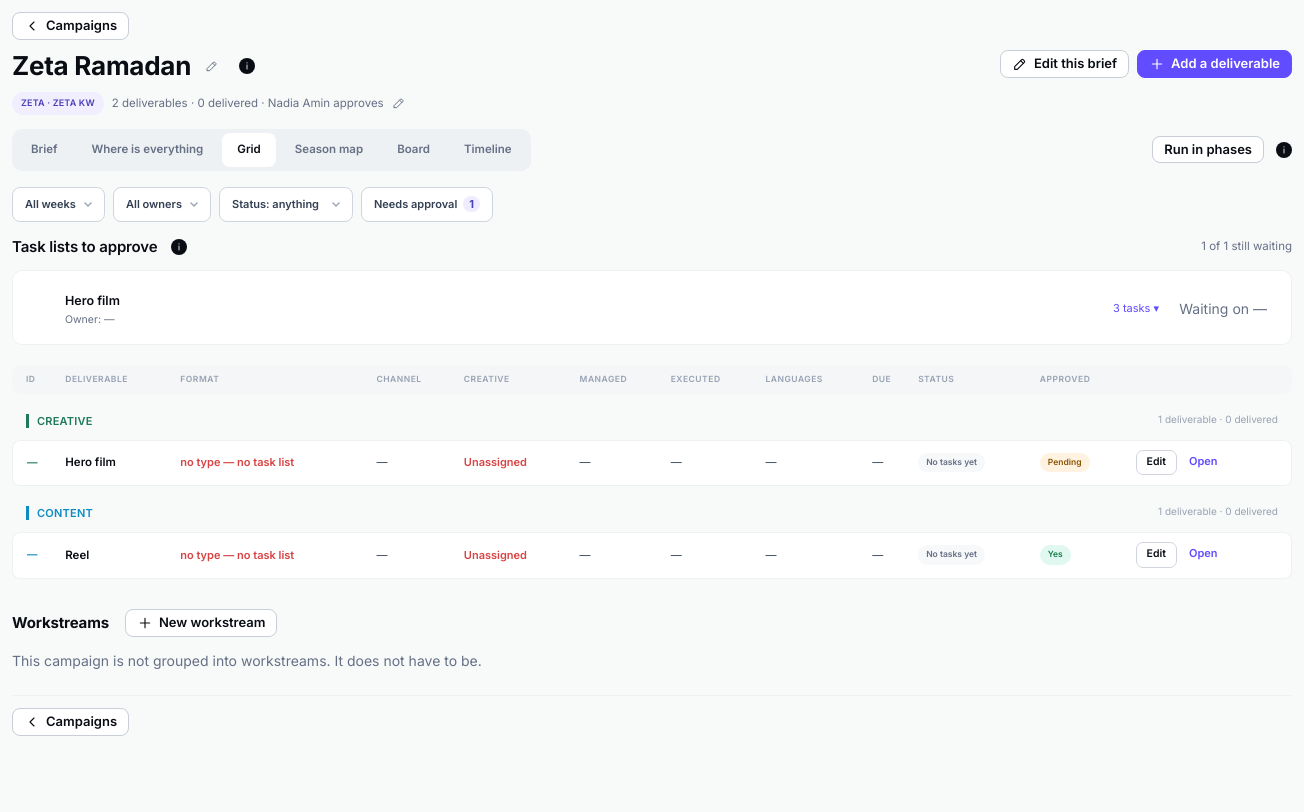
Test: CampaignPage — the views, and the grid that took over the department tabs (CG-01, I57.4) › shows the task lists waiting for their owners, and Needs approval narrows the sheet to them
The image size is (1304, 812).
expect the element with test id "campaign-task-lists" is shown: met, box [12,236,1292,345]
expect the cell with test id "campaign-grid-approved-d1" reads "Pending": met, box [1048,457,1082,467]
What coordinates should you click on to do the following:
click the button with test id "campaign-grid-filter-approval"
I would click on:
 (427, 204)
Its box is [361,187,493,222].
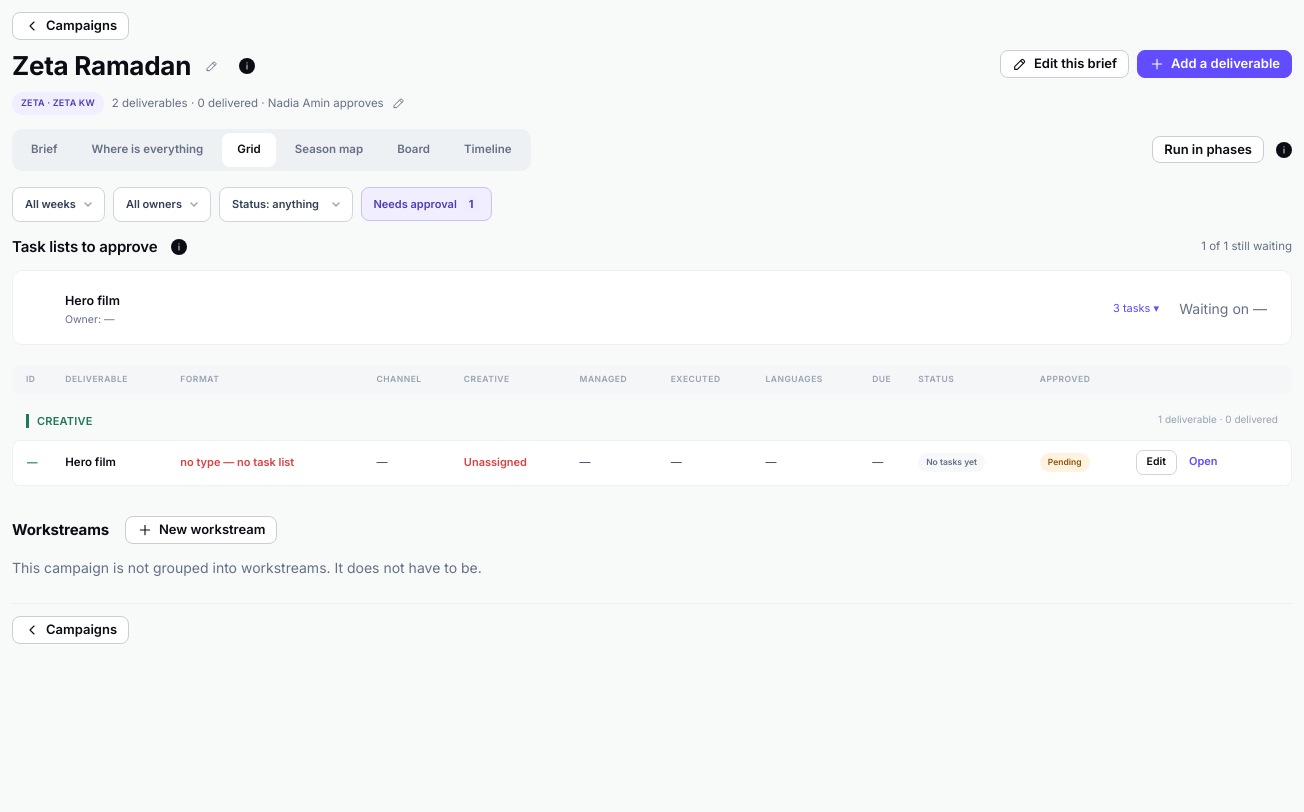
expect the row with test id "campaign-deliverable-d1" is shown: met, box [12,440,1292,486]
expect the row with test id "campaign-deliverable-d2" is gone: met
